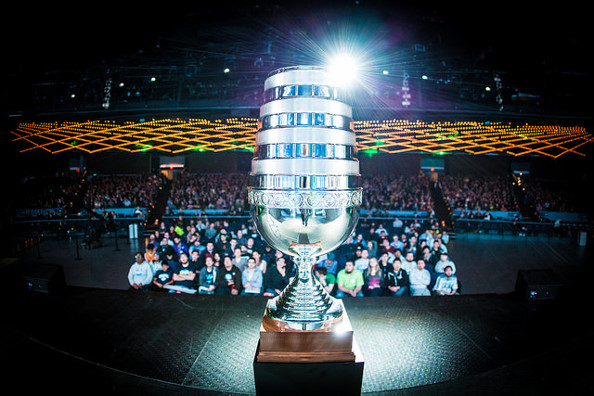trophy: (253, 66, 370, 393)
